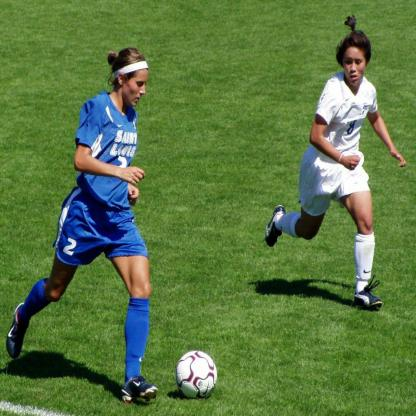face: (344, 47, 367, 89), (130, 71, 151, 109)
